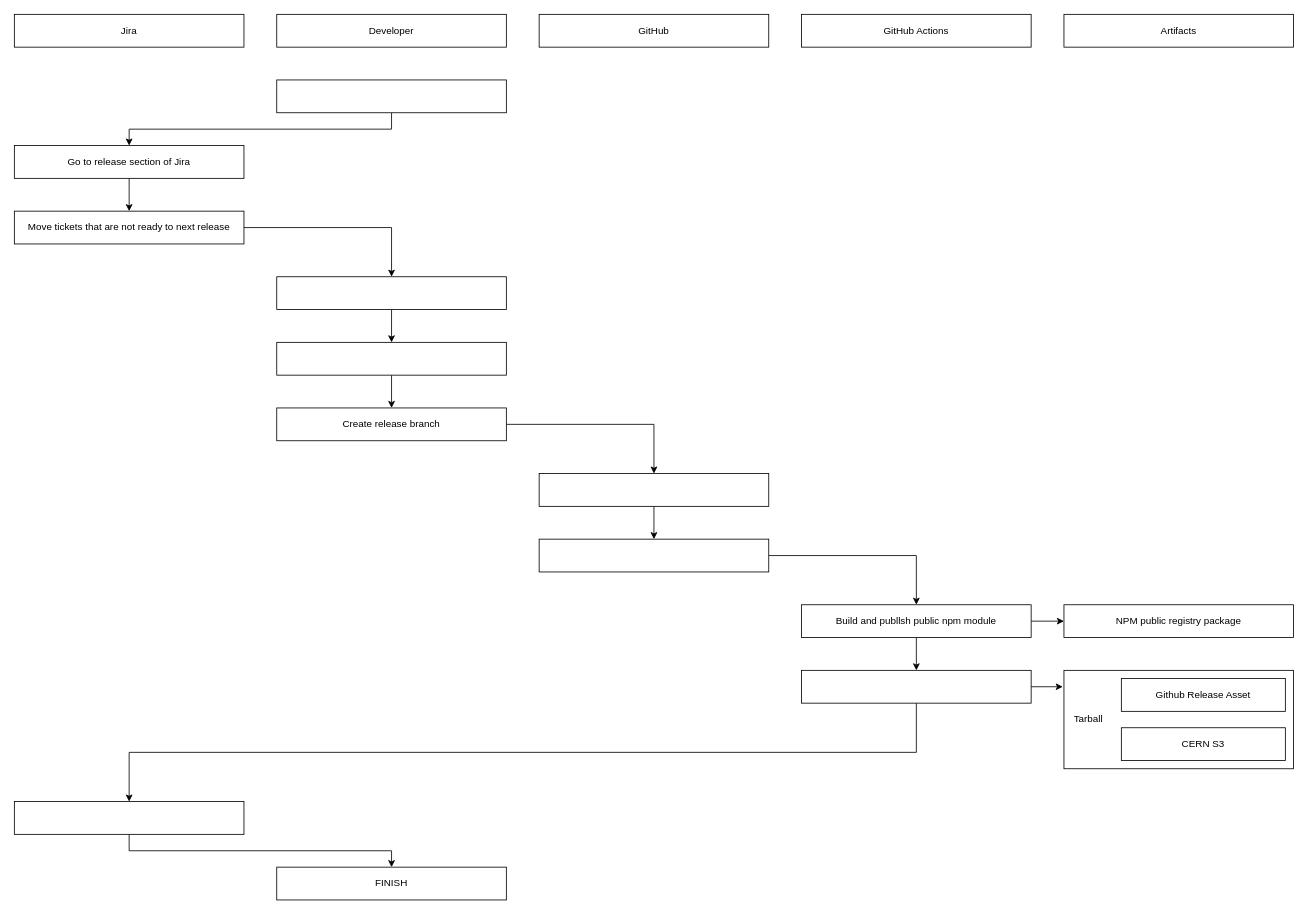
Some shapes in this 1308 by 914 pixel diagram are drawn without their labels. The box of each missing label's shape, as (x1, y1, x2, y2) in pixels:
Create production tarball and upload: (801, 670, 1031, 703)
Create release: (538, 538, 769, 572)
Mark release as done: (14, 801, 244, 834)
npm version and audit: (276, 342, 506, 375)
Open PR: (538, 473, 769, 506)
START: (276, 79, 506, 113)
Verify changes locally: (276, 276, 506, 310)
